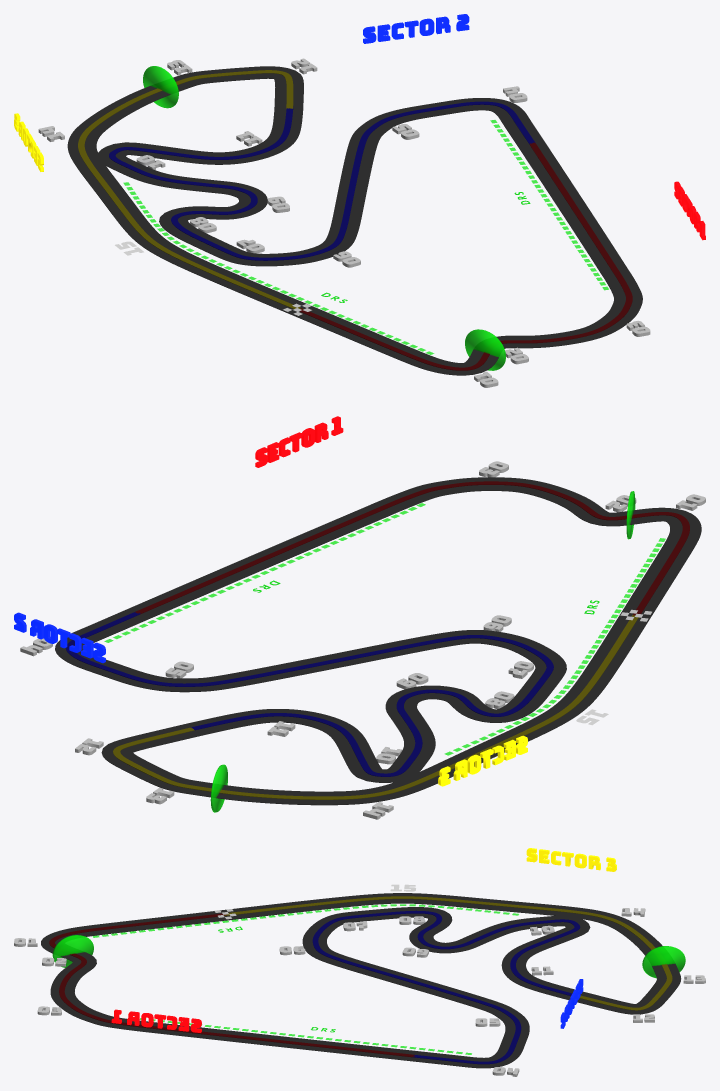
The model's file is interlagos.gltf.
The picture shows the model from 3 angles, top to bottom: view 1: azimuth 30°, elevation 25°; view 2: azimuth 150°, elevation 25°; view 3: azimuth 270°, elevation 25°; orthographic projection. The views are drawn at different scales.
Visible parts, largest first — view 1: track plane, track plane.002, track plane.001, track plane.003, Text.001, DRSPlane1.002, DrsDetect1.003, DrsDetect1.002, DRSPlane1.003, Text, Text.002; view 2: track plane, track plane.002, track plane.001, track plane.003, Text.001, Text.002, Text, DRSPlane1.002, DRSPlane1.003; view 3: track plane, track plane.002, track plane.001, track plane.003, Text.002, Text, DrsDetect1.002, DRSPlane1.002, DrsDetect1.003, DRSPlane1.003, Text.001.
Boxes of the visible parts, x1=… form: track plane: x1=67, y1=66, x2=642, y2=375; track plane.002: x1=109, y1=101, x2=535, y2=260; track plane.001: x1=299, y1=142, x2=632, y2=370; track plane.003: x1=78, y1=70, x2=302, y2=309; Text.001: x1=363, y1=14, x2=469, y2=43; DRSPlane1.002: x1=123, y1=182, x2=434, y2=354; DrsDetect1.003: x1=465, y1=329, x2=505, y2=370; DrsDetect1.002: x1=143, y1=66, x2=178, y2=108; DRSPlane1.003: x1=490, y1=120, x2=608, y2=290; Text: x1=674, y1=181, x2=705, y2=240; Text.002: x1=14, y1=113, x2=43, y2=171; track plane: x1=55, y1=477, x2=701, y2=805; track plane.002: x1=66, y1=612, x2=553, y2=776; track plane.001: x1=134, y1=481, x2=689, y2=615; track plane.003: x1=113, y1=615, x2=638, y2=799; Text.001: x1=14, y1=612, x2=105, y2=663; Text.002: x1=438, y1=735, x2=527, y2=786; Text: x1=255, y1=416, x2=343, y2=467; DRSPlane1.002: x1=444, y1=538, x2=665, y2=755; DRSPlane1.003: x1=104, y1=503, x2=425, y2=642; track plane: x1=41, y1=893, x2=681, y2=1068; track plane.002: x1=312, y1=910, x2=580, y2=1064; track plane.001: x1=49, y1=913, x2=414, y2=1057; track plane.003: x1=224, y1=896, x2=672, y2=1010; Text.002: x1=526, y1=848, x2=616, y2=871; Text: x1=111, y1=1009, x2=201, y2=1032; DrsDetect1.002: x1=642, y1=946, x2=685, y2=978; DRSPlane1.002: x1=92, y1=904, x2=518, y2=937; DrsDetect1.003: x1=52, y1=935, x2=93, y2=967; DRSPlane1.003: x1=139, y1=1018, x2=471, y2=1054; Text.001: x1=560, y1=979, x2=583, y2=1028.
Bounding box in the file's own units: 48.9 × 7.57 × 73.84.
